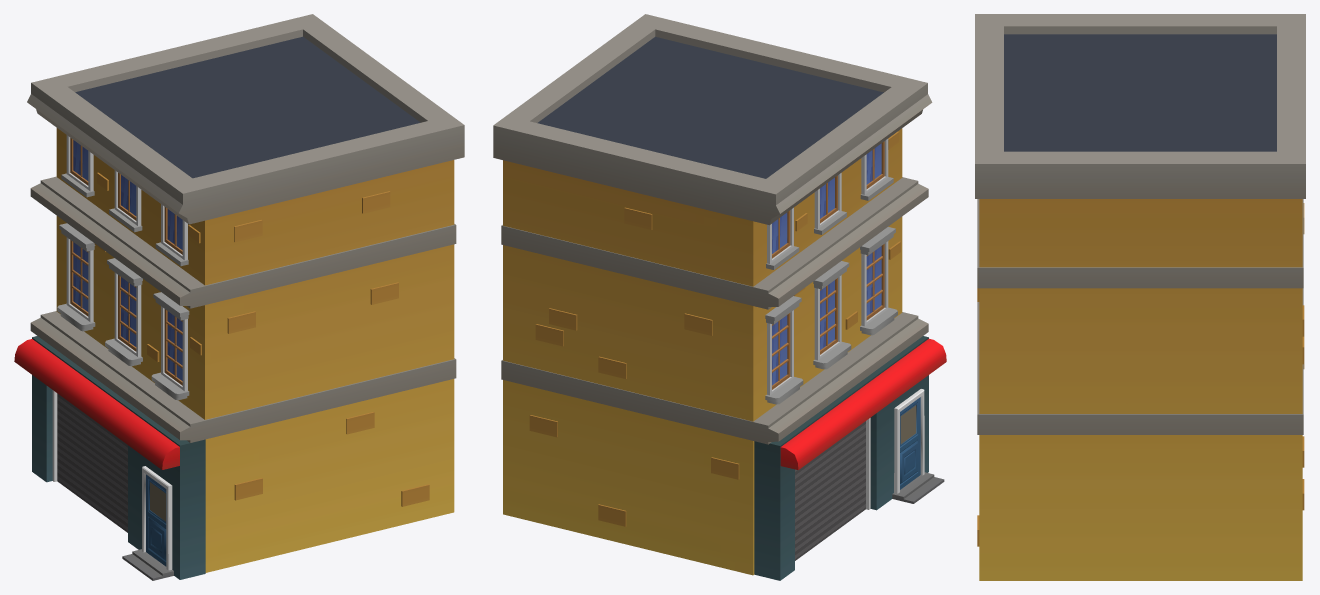
File: Building_19_2_F.fbx
3 renders of one model, left to right at view 1: azimuth 30°, elevation 25°; view 2: azimuth 150°, elevation 25°; view 3: azimuth 270°, elevation 25°, orthographic. The views are drawn at different scales.
Parts seen in each view (by area): view 1: Building_19_2_F; view 2: Building_19_2_F; view 3: Building_19_2_F.
Part boxes in pixels (left/top/right/bottom): Building_19_2_F: left=14, top=14, right=464, bottom=580; Building_19_2_F: left=493, top=14, right=946, bottom=580; Building_19_2_F: left=975, top=14, right=1305, bottom=580.
Size of the model in its own units: 774 by 938 by 667.
